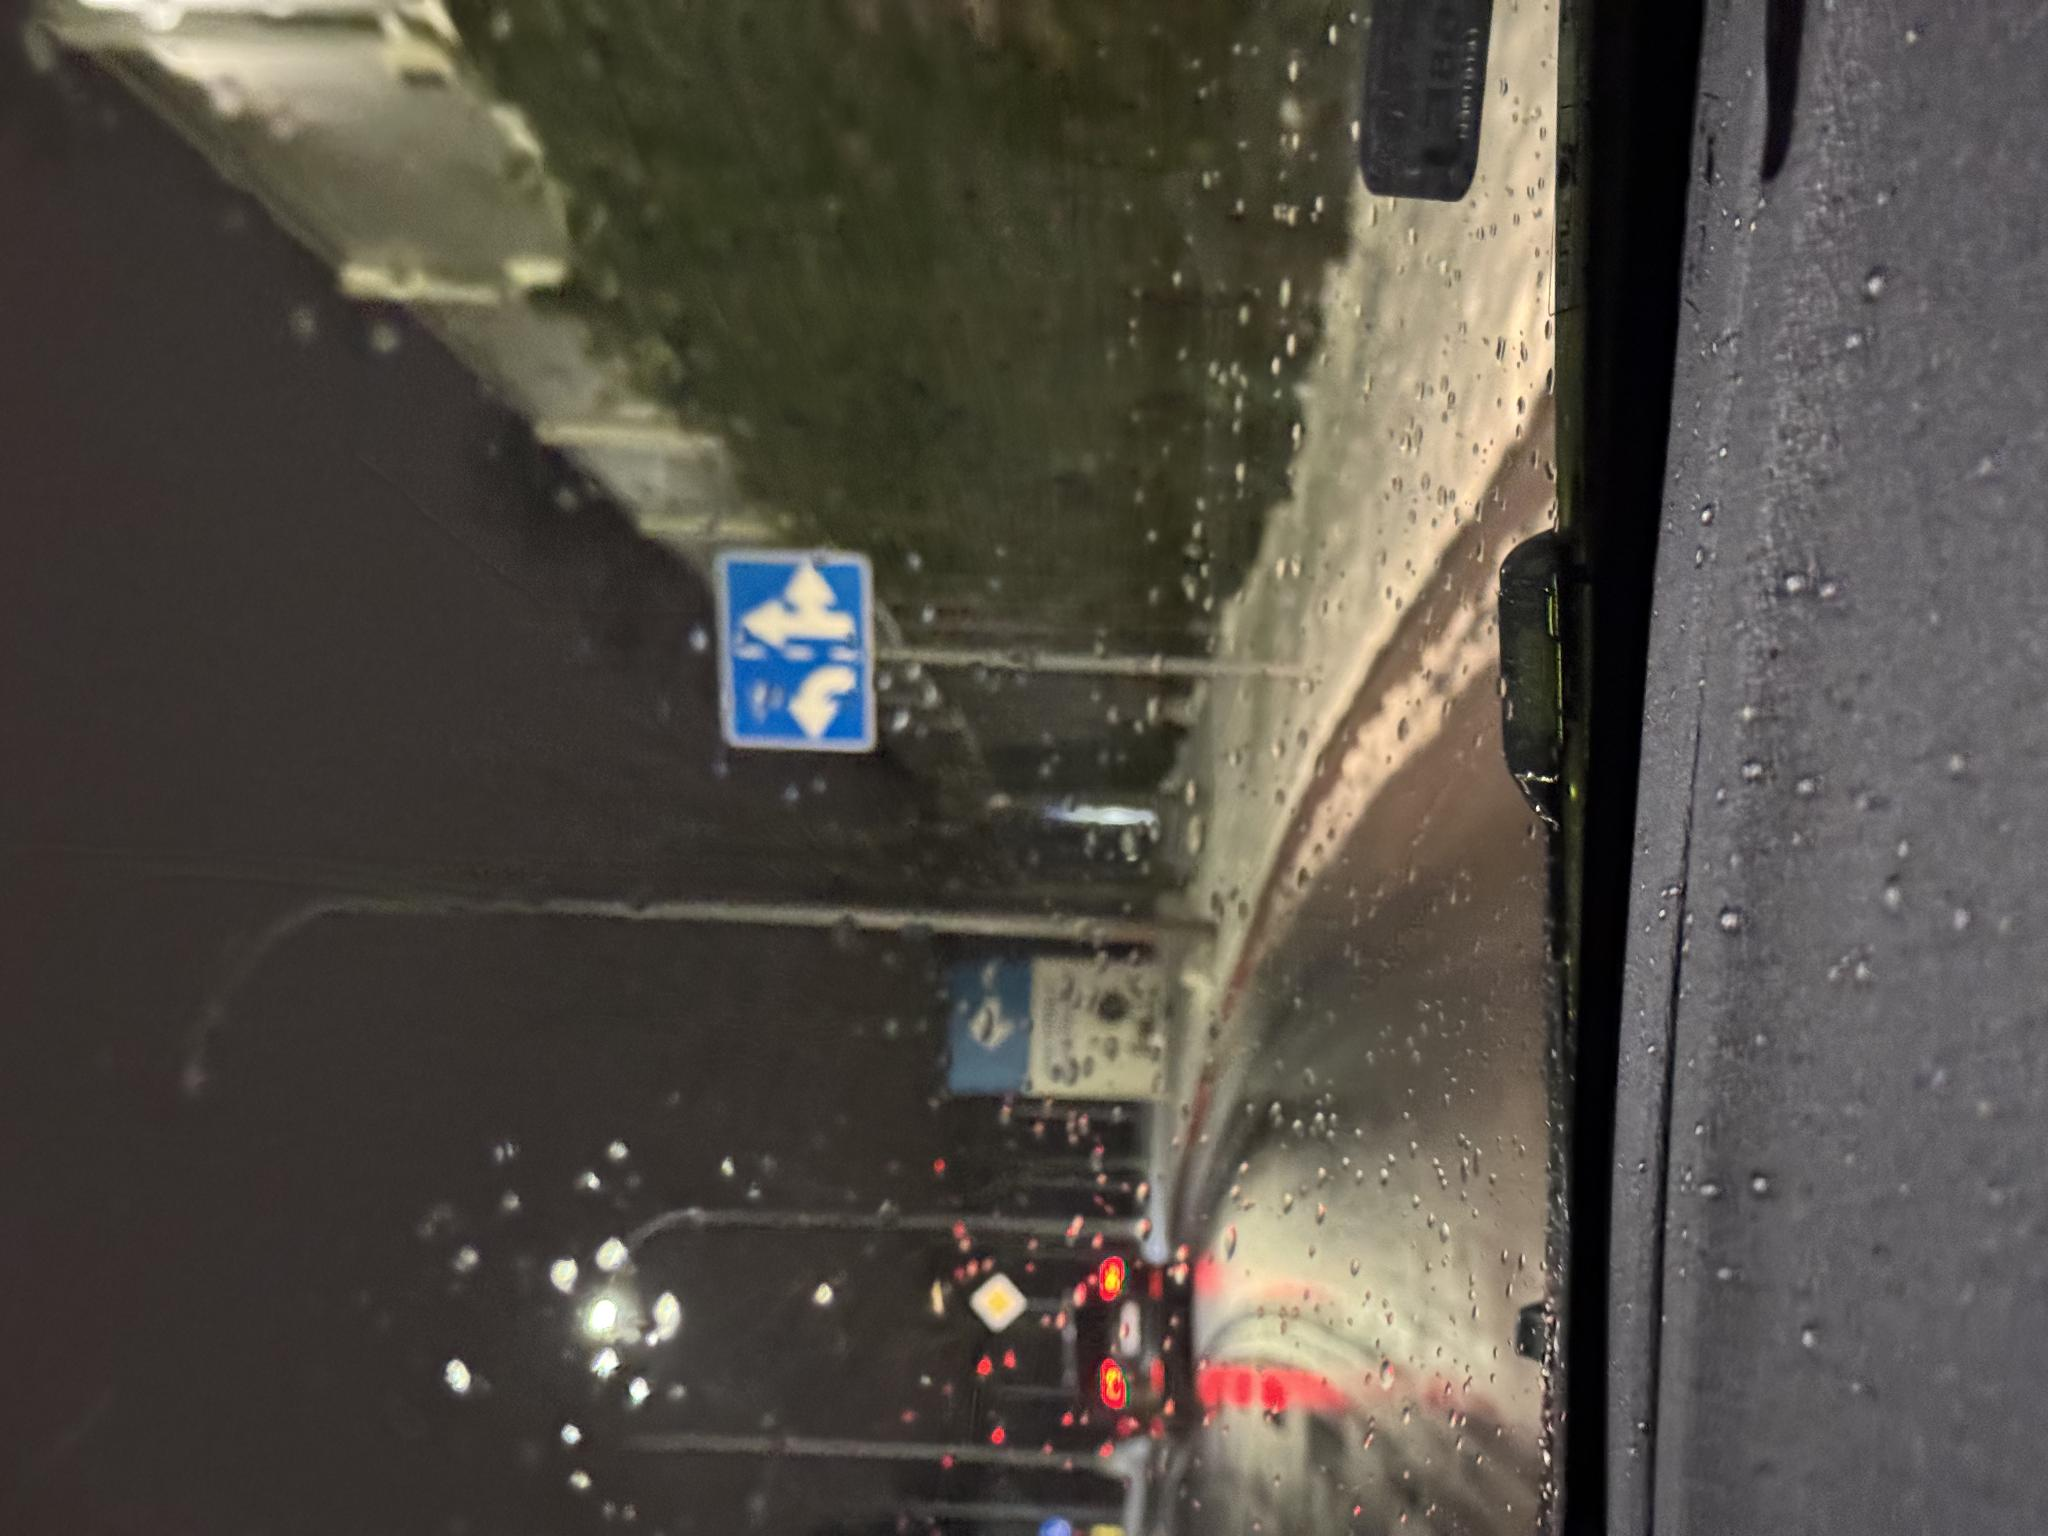other: (780, 720, 985, 874)
